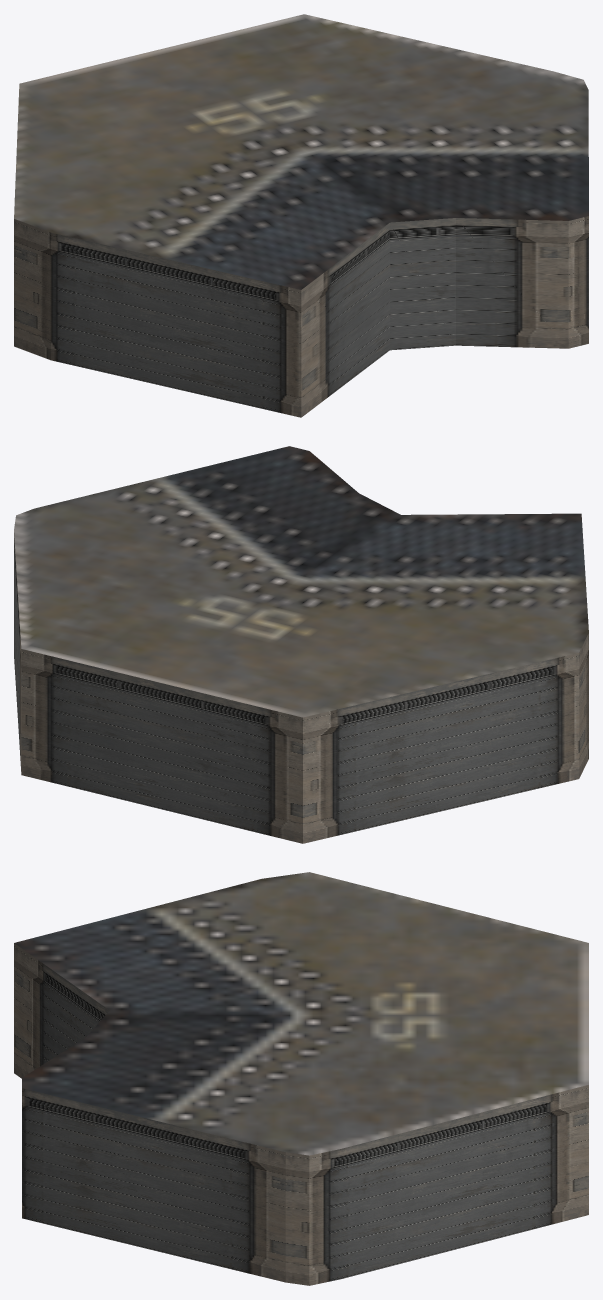
Rendered from hangar_heavy_55.glb.
The picture shows the model from 3 angles, top to bottom: view 1: azimuth 30°, elevation 25°; view 2: azimuth 150°, elevation 25°; view 3: azimuth 270°, elevation 25°; orthographic projection. The views are drawn at different scales.
Visible parts, largest first — view 1: buildings/saxarba/hangar_heavy/hangar_heavy_55; view 2: buildings/saxarba/hangar_heavy/hangar_heavy_55; view 3: buildings/saxarba/hangar_heavy/hangar_heavy_55.
Part boxes in pixels (x1,y1,x2,y2): buildings/saxarba/hangar_heavy/hangar_heavy_55: (14,14,588,417); buildings/saxarba/hangar_heavy/hangar_heavy_55: (14,446,588,843); buildings/saxarba/hangar_heavy/hangar_heavy_55: (14,872,588,1285).
Bounding box in the file's own units: 84 × 18 × 72.
